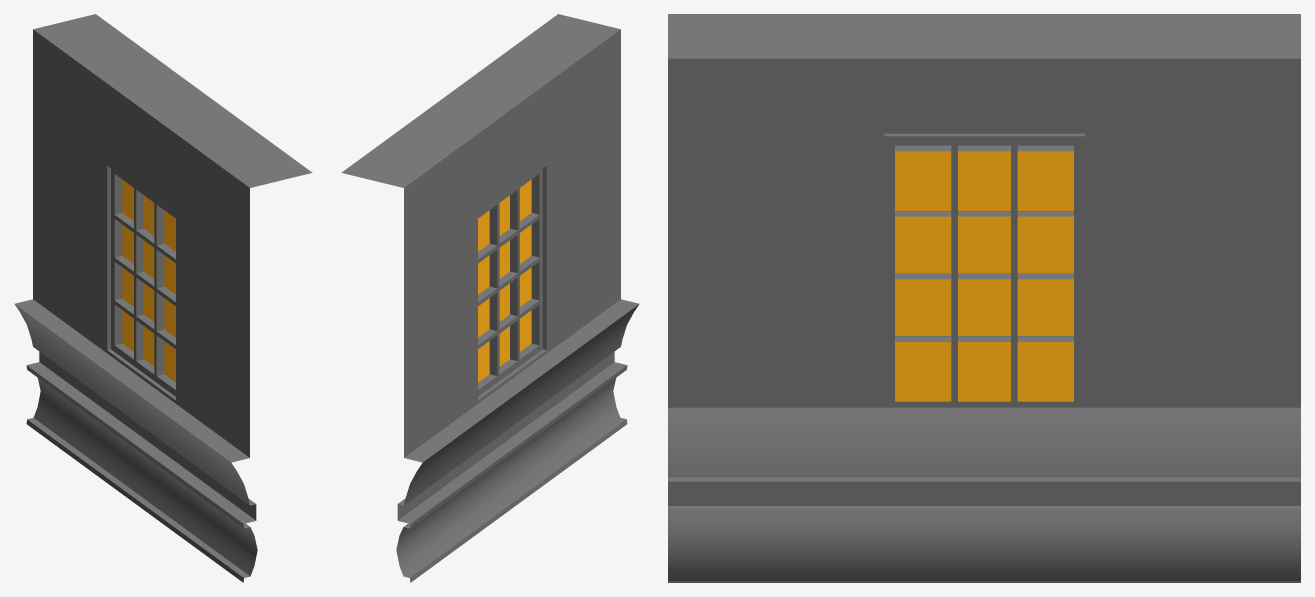
The model's file is O_Facade_Boutique_Fenetre_Rebord_simlple.fbx.
The picture shows the model from 3 angles, left to right: view 1: azimuth 30°, elevation 25°; view 2: azimuth 150°, elevation 25°; view 3: azimuth 270°, elevation 25°; orthographic projection. The views are drawn at different scales.
Parts seen in each view (by area): view 1: O_Facade_Boutique_Fenetre_Rebord_simlple; view 2: O_Facade_Boutique_Fenetre_Rebord_simlple; view 3: O_Facade_Boutique_Fenetre_Rebord_simlple.
Boxes of the visible parts, bbox=[...] form: O_Facade_Boutique_Fenetre_Rebord_simlple: bbox=[14, 14, 312, 582]; O_Facade_Boutique_Fenetre_Rebord_simlple: bbox=[341, 14, 639, 582]; O_Facade_Boutique_Fenetre_Rebord_simlple: bbox=[668, 14, 1300, 582].
Size of the model in its own units: 0.65 by 3 by 3.
